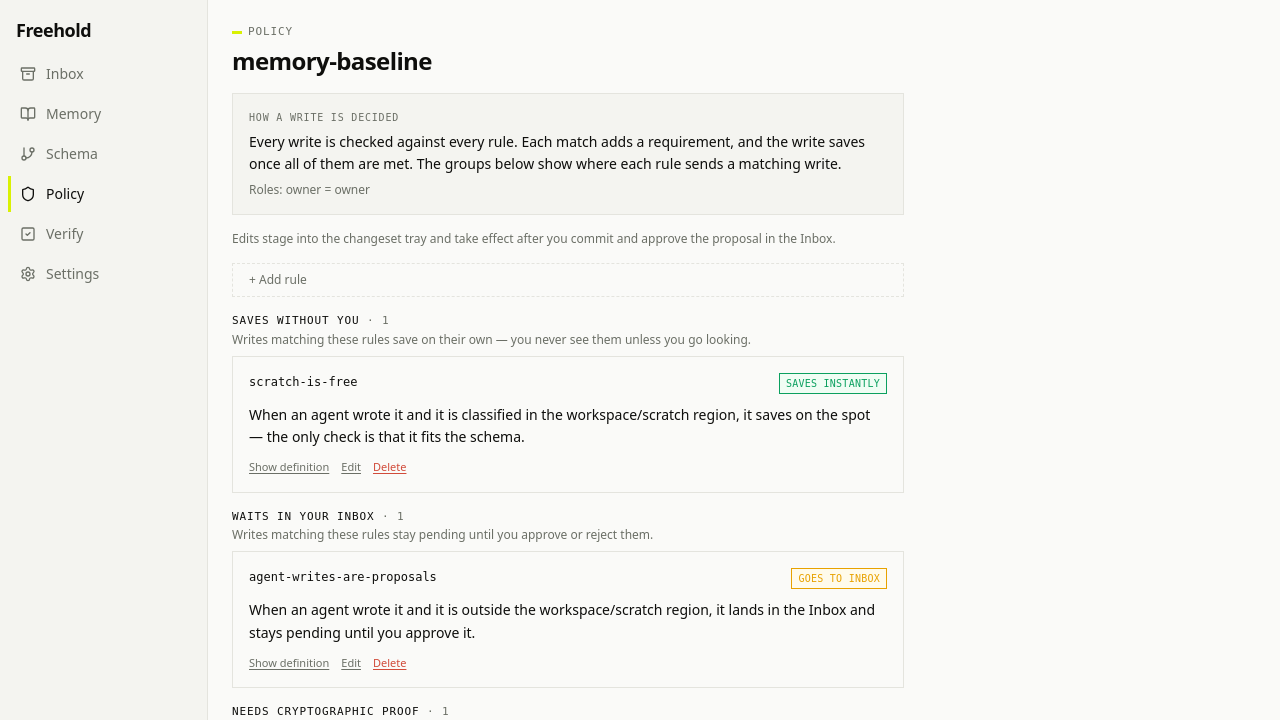
Policy › disables Stage change button when rule name is empty
Click the button with test id "edit-rule-scratch-is-free" at [351, 467], box [341,459,361,476]
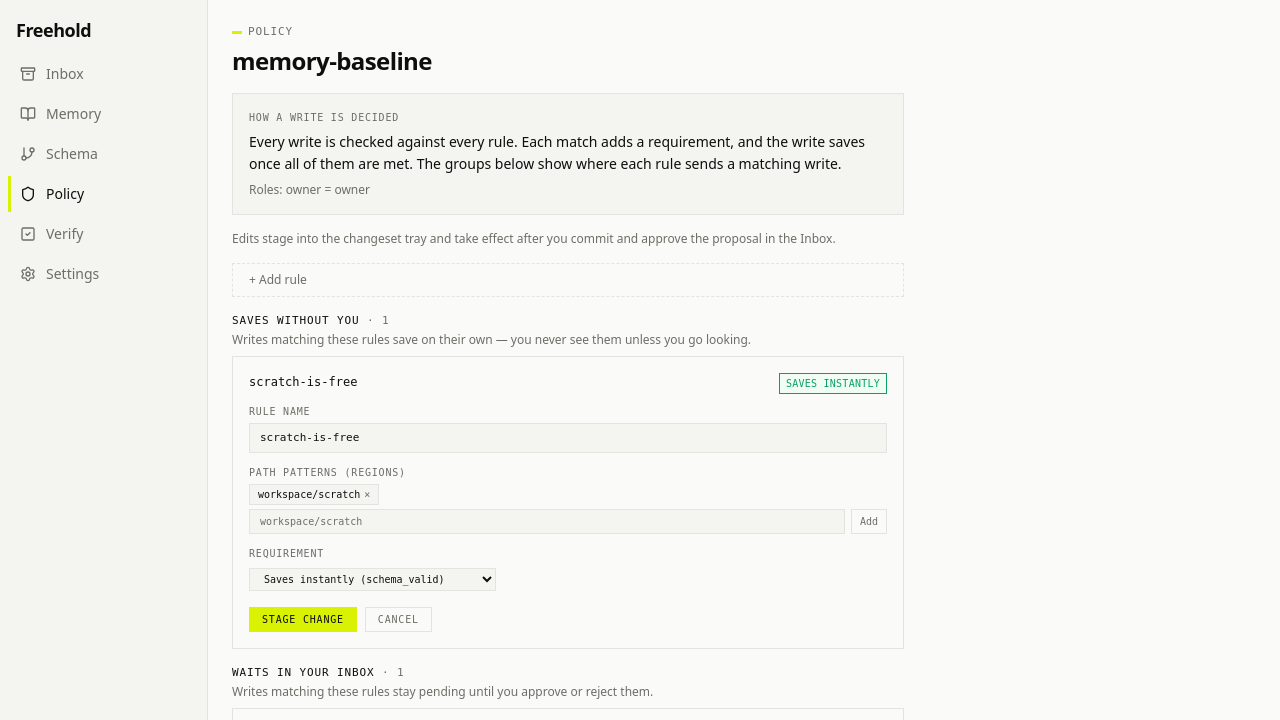
Clear the field named "Rule name" at [568, 438], box [249,422,887,453]
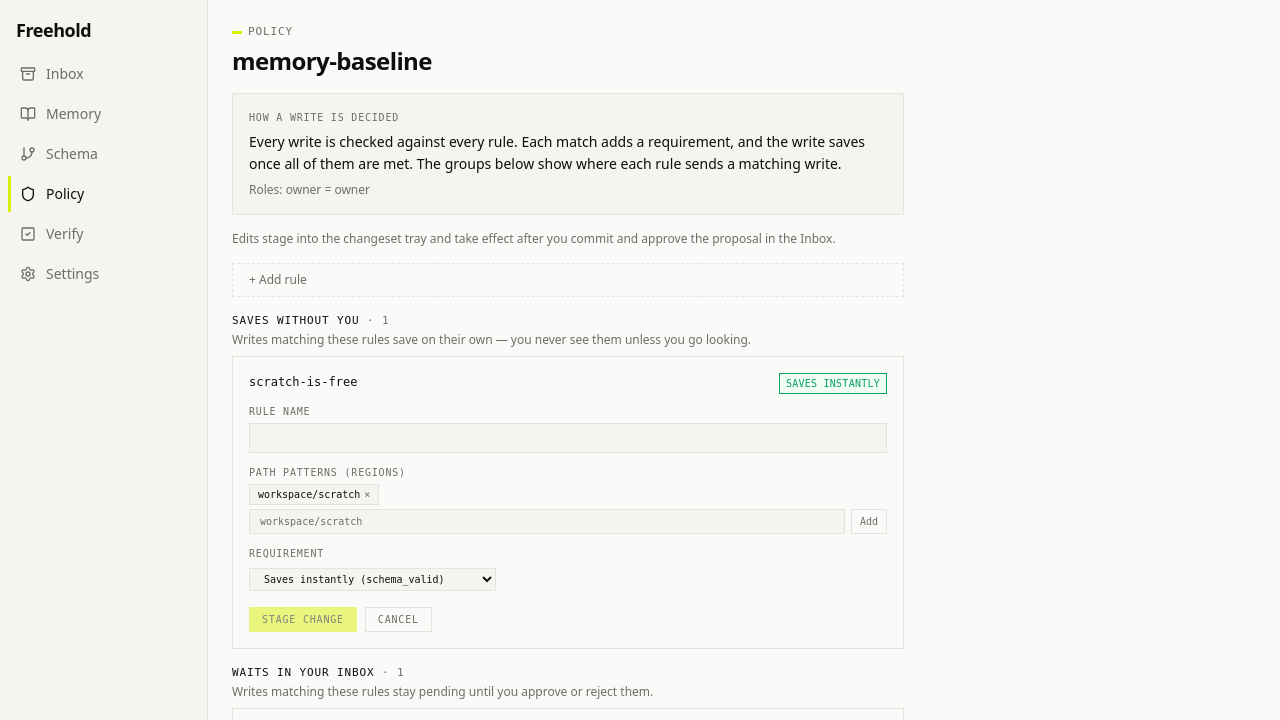
Check: the button with test id "stage-rule-scratch-is-free" is disabled, box [249,607,357,632]
